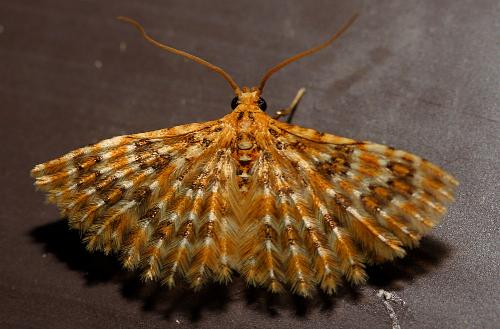Alucitidae: (22, 6, 463, 300)
moth: (24, 8, 465, 302)
